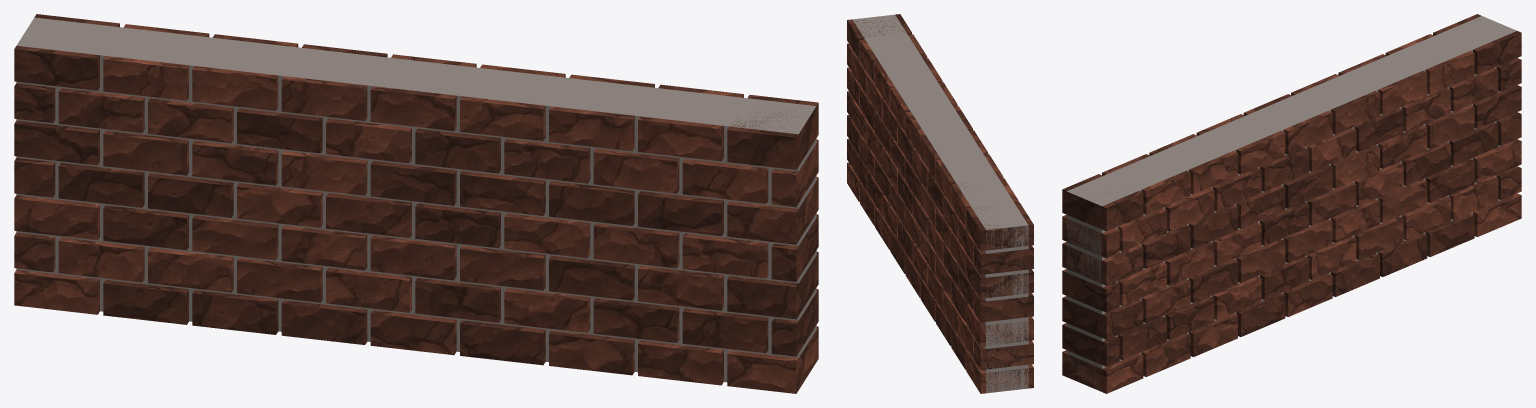
The model's file is half_wall_diagonal__clay_brick.glb.
The picture shows the model from 3 angles, left to right: view 1: azimuth 30°, elevation 25°; view 2: azimuth 150°, elevation 25°; view 3: azimuth 270°, elevation 25°; orthographic projection. The views are drawn at different scales.
Parts seen in each view (by area): view 1: model; view 2: model; view 3: model.
Part boxes in pixels (left/top/right/bottom): model: left=14, top=14, right=818, bottom=393; model: left=847, top=14, right=1033, bottom=393; model: left=1062, top=14, right=1521, bottom=393.
Size of the model in its own units: 2.2 by 0.98 by 2.2.
Materials: 4 (3 with a texture image).
